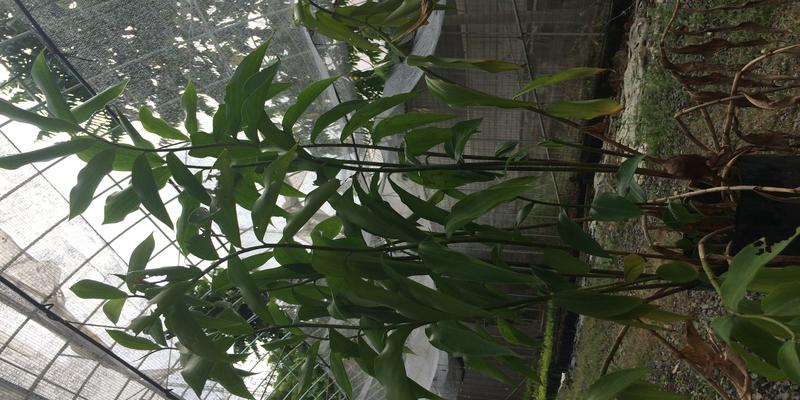Insulin: (38, 84, 770, 332)
